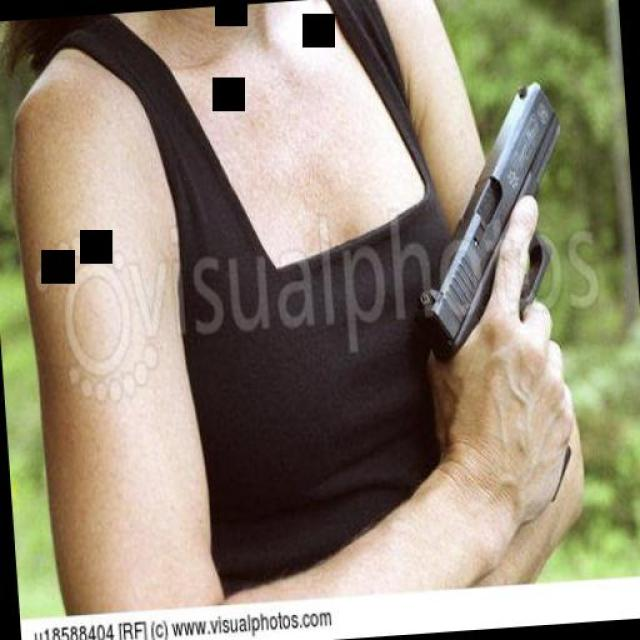gun: (397, 70, 585, 369)
